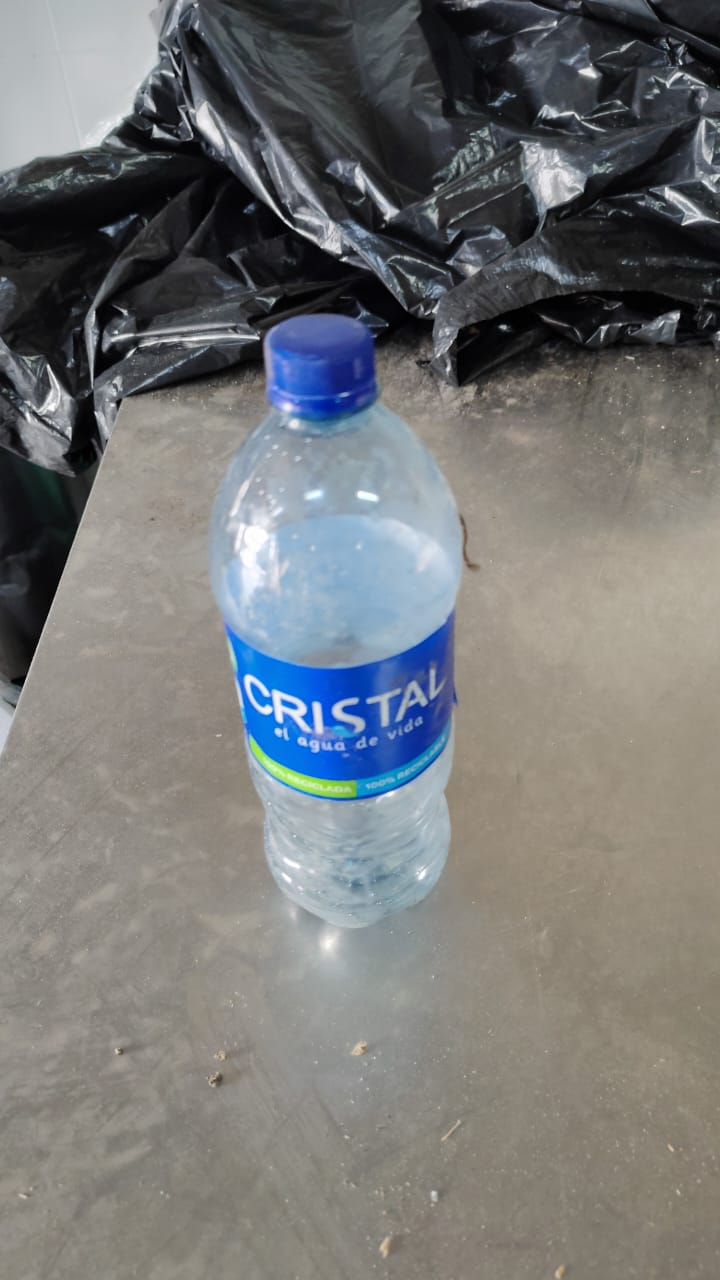Plastico: (209, 314, 466, 932)
